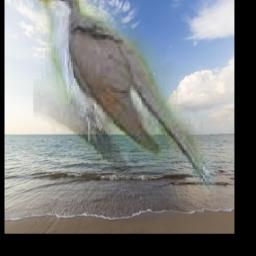Cuckoo: (34, 0, 218, 196)
